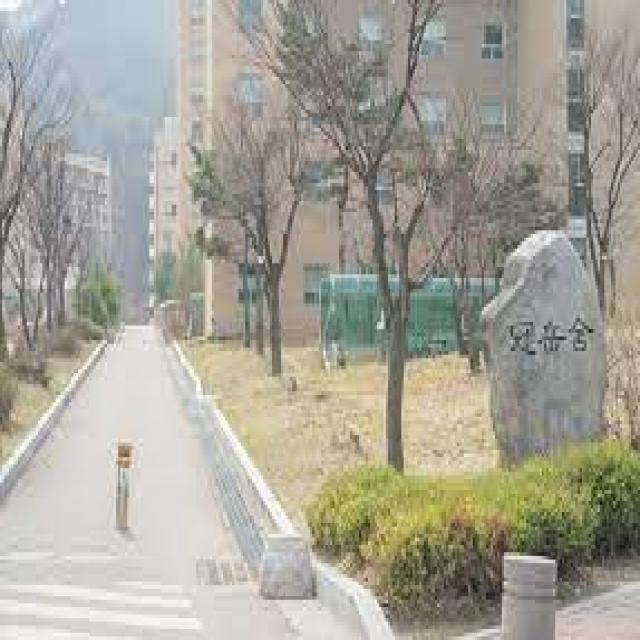bollard: (496, 542, 562, 640), (261, 514, 322, 608), (110, 434, 135, 536)
